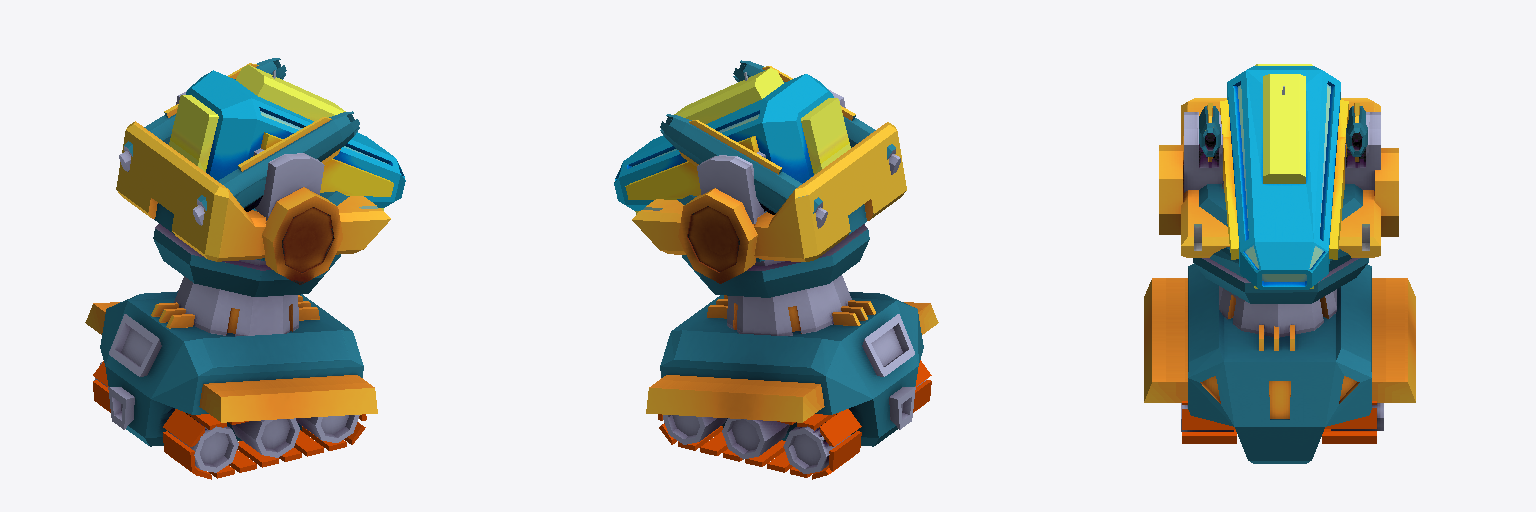
3 views of the same model, side by side, from view 1: azimuth 30°, elevation 25°; view 2: azimuth 150°, elevation 25°; view 3: azimuth 270°, elevation 25° (orthographic).
Visible parts, largest first — view 1: Object015, Object014, Box009, Box017, Box016; view 2: Object015, Object014, Box009, Box016, Box017; view 3: Object015, Object014, Box017, Box016.
Boxes of the visible parts, <box> form: Object015: <box>85,65,405,446</box>; Object014: <box>119,58,359,225</box>; Box009: <box>94,362,359,472</box>; Box017: <box>163,409,366,479</box>; Box016: <box>93,361,110,412</box>; Object015: <box>614,68,938,446</box>; Object014: <box>660,60,900,228</box>; Box009: <box>663,379,926,473</box>; Box016: <box>658,409,861,479</box>; Box017: <box>913,360,931,412</box>; Object015: <box>1144,64,1415,463</box>; Object014: <box>1199,103,1367,161</box>; Box017: <box>1182,401,1236,443</box>; Box016: <box>1322,401,1376,443</box>.
Size of the model in its own units: 70.38 by 88.9 by 59.78.
Materials: 5 (2 with a texture image).